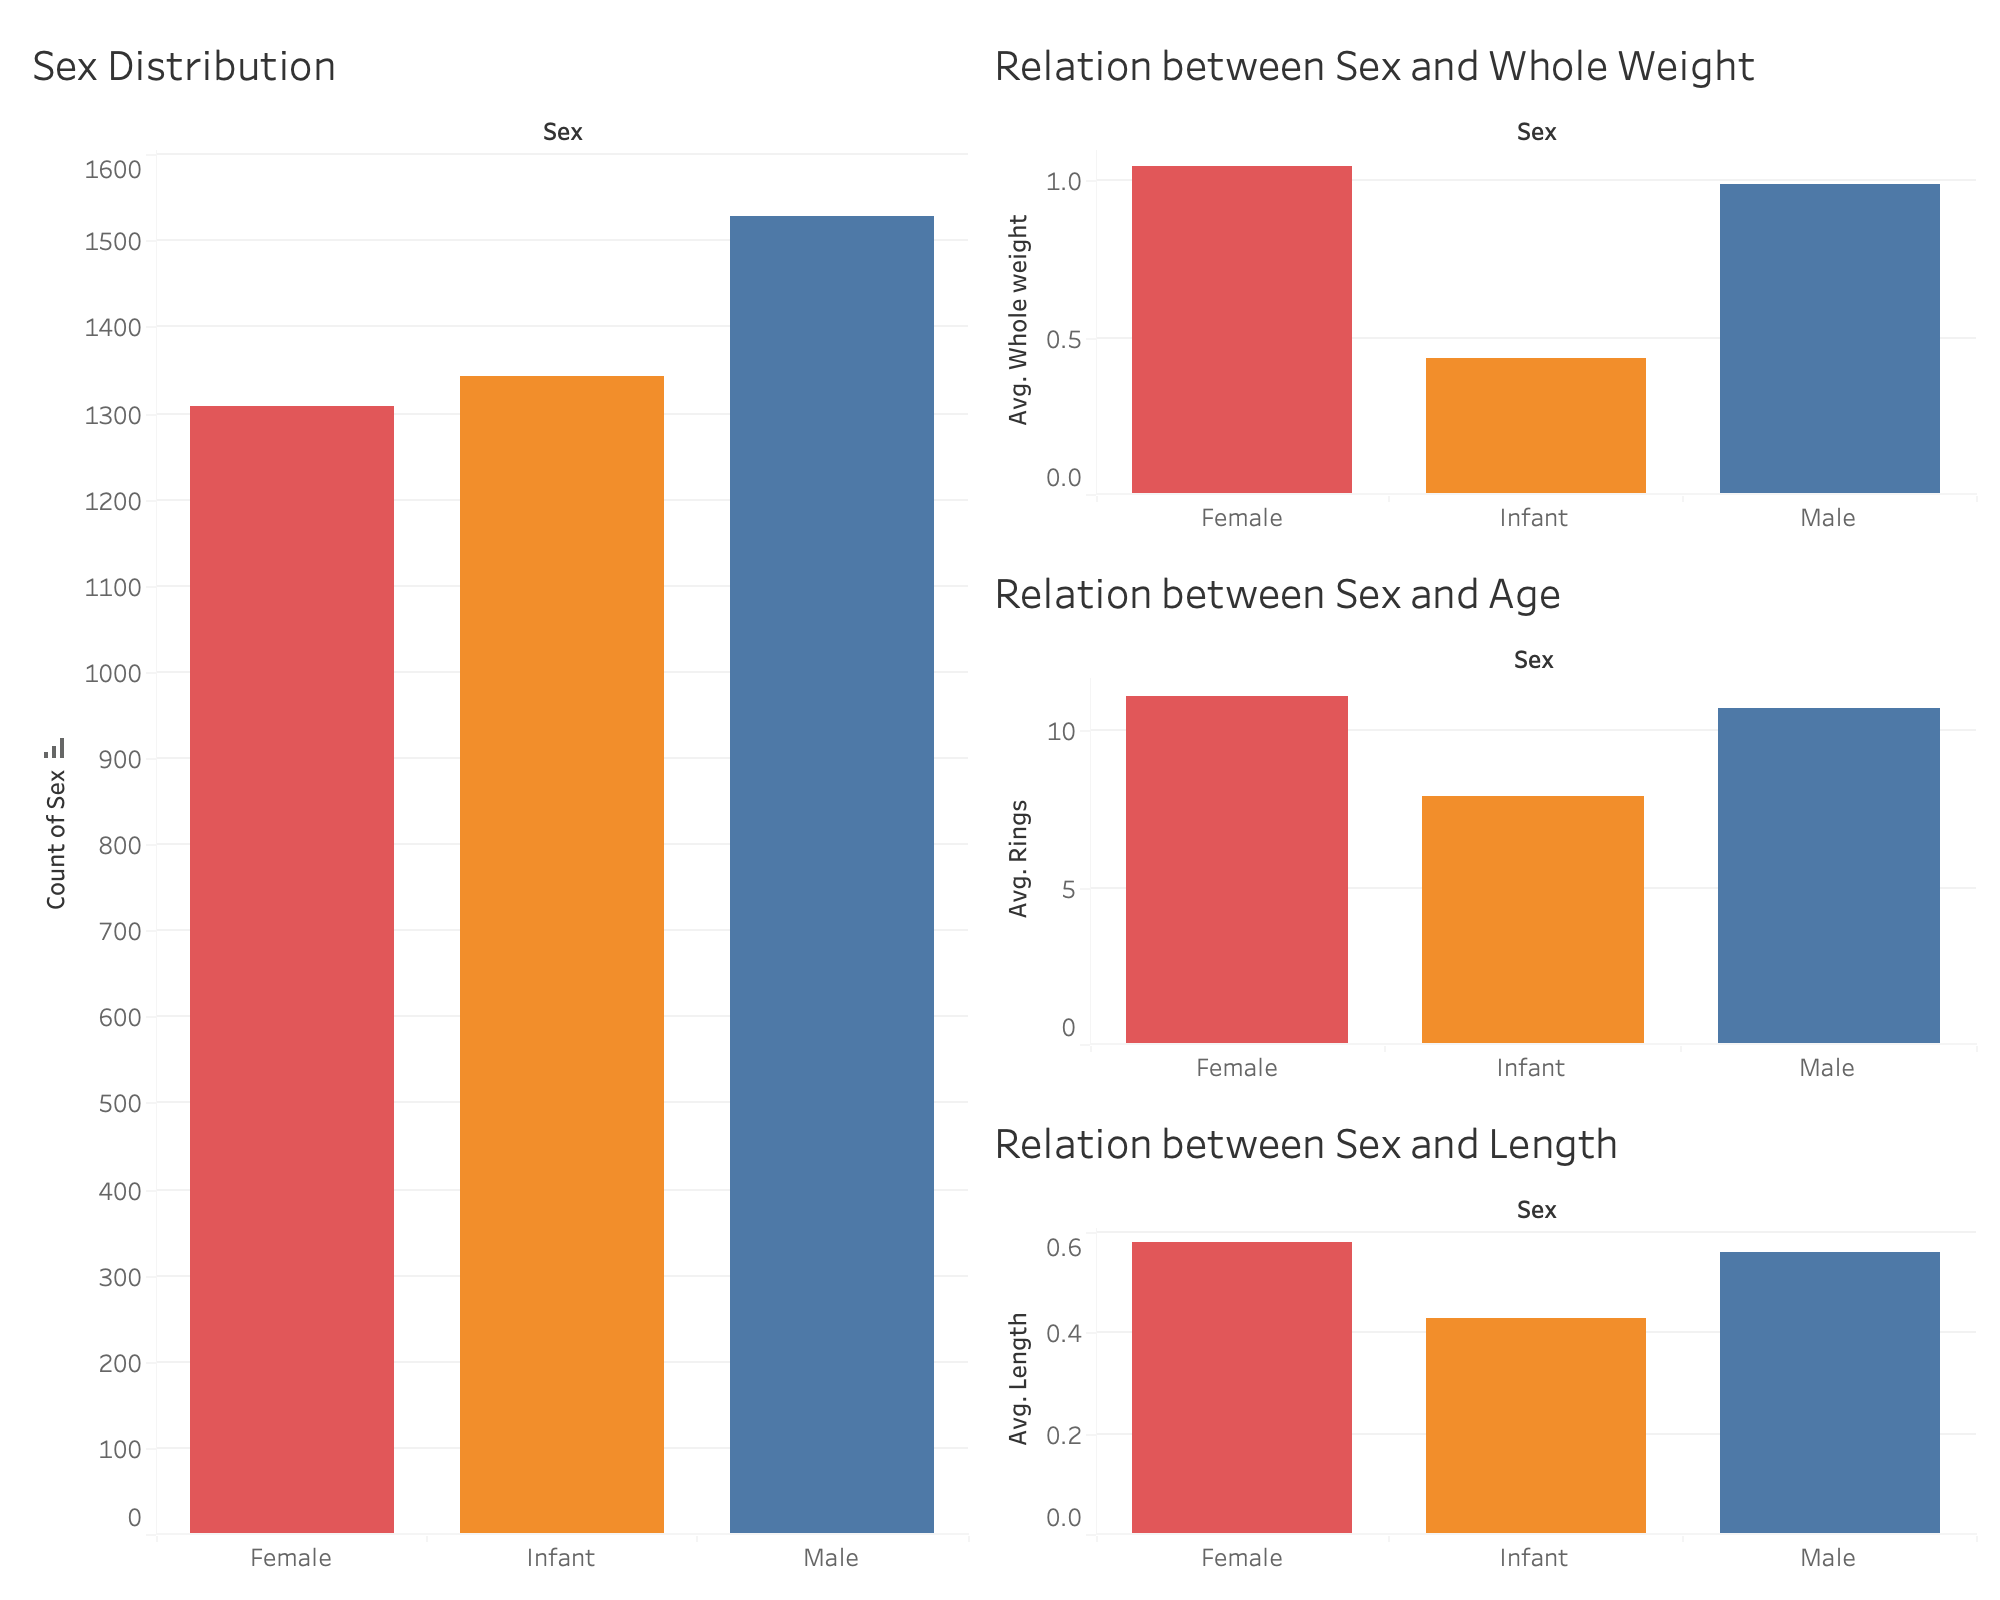

The page's visual inventory and layout, read from the dashboard file:
{"tool":"tableau","page":{"name":"Abalone Insights","canvas":[1000,800],"ordinal":0},"visuals":[{"type":"worksheet","title":"Sex Distribution","mark":"Automatic","rows":["Sex"],"cols":["Sex"],"box":[8,8,481,784]},{"type":"worksheet","title":"Relation between Sex and Whole Weight","mark":"Automatic","rows":["Whole weight"],"cols":["Sex"],"box":[489,8,503,264]},{"type":"worksheet","title":"Relation between Sex and Age","mark":"Automatic","rows":["Calculation_308144756550299648"],"cols":["Sex"],"box":[489,272,503,275]},{"type":"worksheet","title":"Relation between Sex and Length","mark":"Automatic","rows":["Length"],"cols":["Sex"],"box":[489,547,503,245]}]}

Visuals, with their boxes in screenshot pixels (x1, y1, x2, y2), scaled from the page's 1000x800 canvas onto the 2000x1600 screenshot:
"Sex Distribution" worksheet: {"x1": 16, "y1": 16, "x2": 978, "y2": 1584}
"Relation between Sex and Whole Weight" worksheet: {"x1": 978, "y1": 16, "x2": 1984, "y2": 544}
"Relation between Sex and Age" worksheet: {"x1": 978, "y1": 544, "x2": 1984, "y2": 1094}
"Relation between Sex and Length" worksheet: {"x1": 978, "y1": 1094, "x2": 1984, "y2": 1584}
